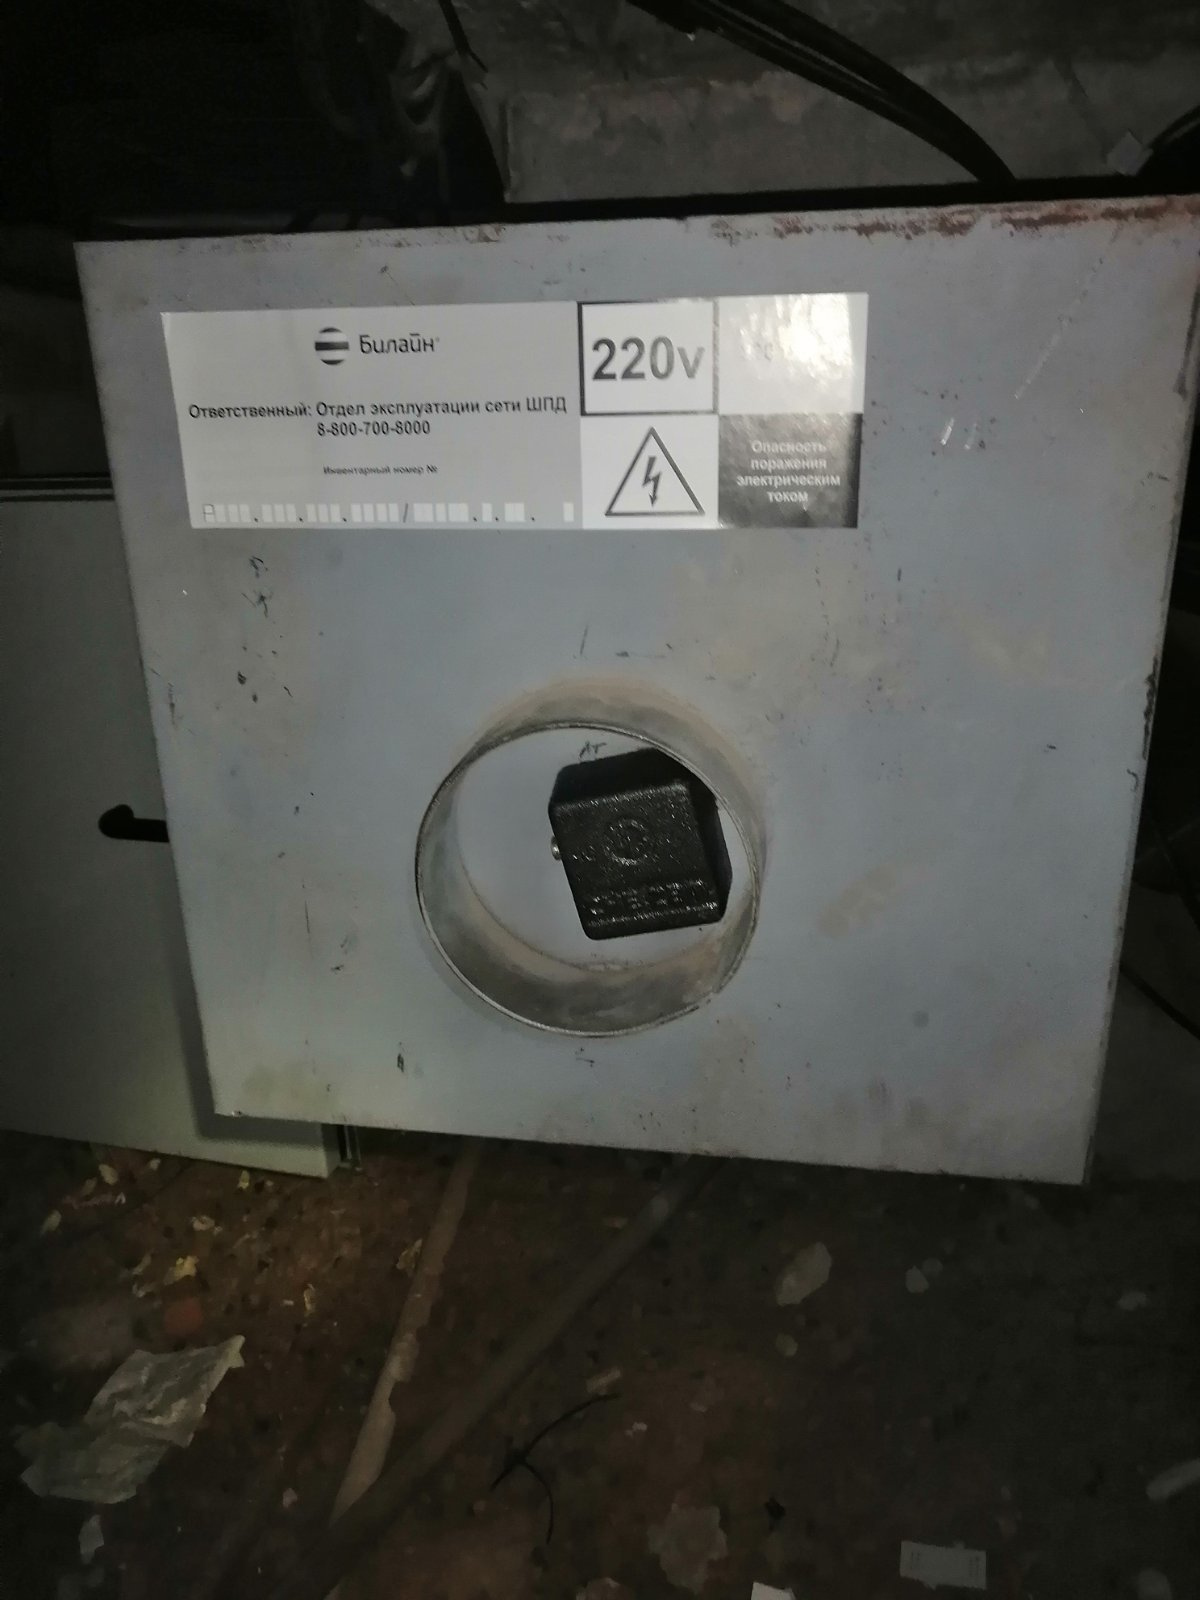shta-9: (59, 171, 1186, 1203)
